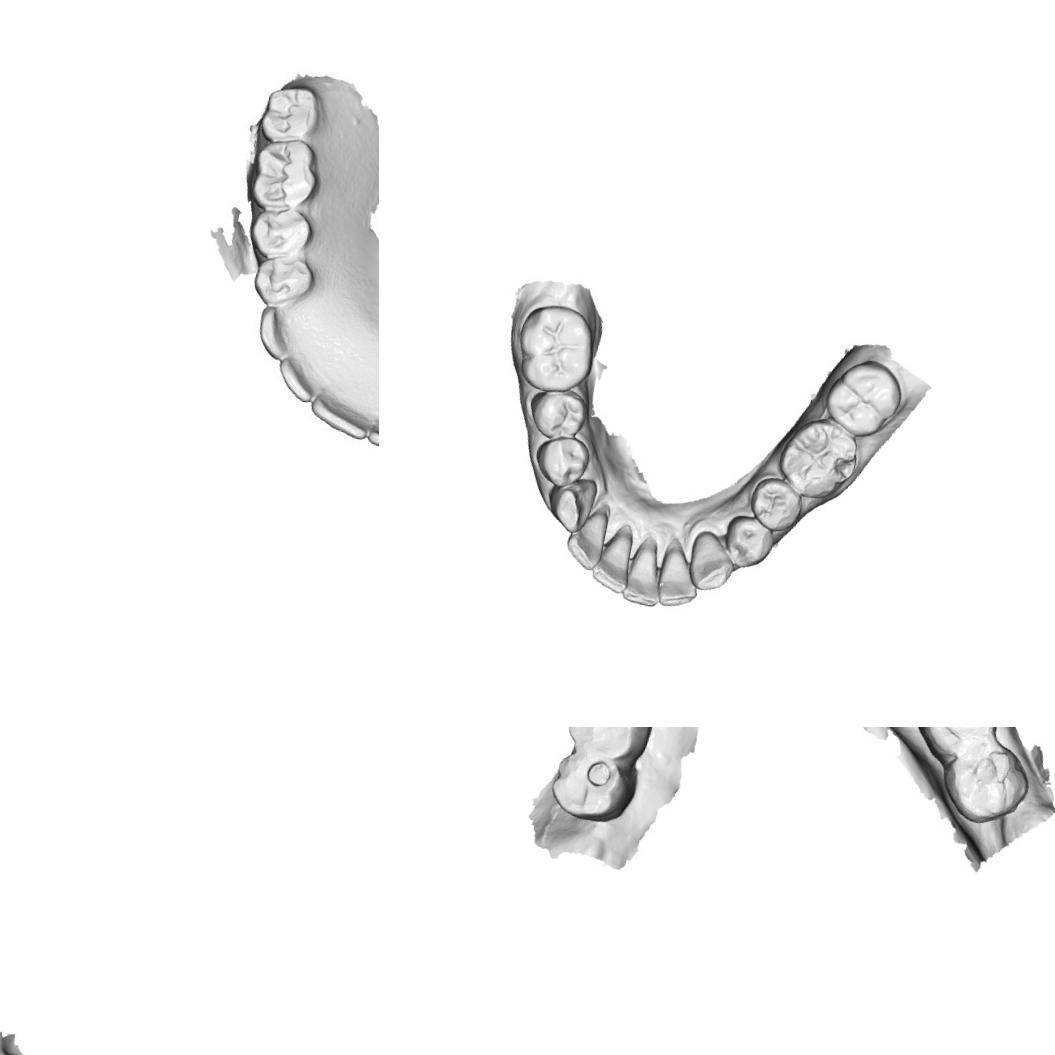canine: (682, 526, 740, 595), (542, 472, 599, 536), (252, 302, 307, 363)
incisor: (310, 375, 378, 446), (652, 534, 706, 612), (620, 531, 670, 608), (588, 520, 638, 595), (562, 504, 610, 572), (278, 353, 332, 403)
molar: (507, 297, 602, 399), (936, 738, 1036, 830), (770, 409, 864, 505), (543, 742, 641, 828), (820, 352, 902, 432), (250, 134, 323, 209), (257, 76, 322, 144), (561, 727, 658, 766), (909, 727, 1001, 768)
premolar: (521, 380, 592, 445), (530, 429, 594, 492), (744, 472, 806, 535), (249, 198, 314, 258), (718, 510, 778, 574), (255, 253, 314, 309)
